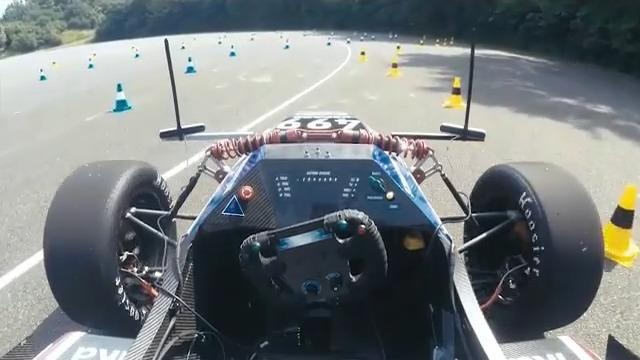blue_cone: (102, 79, 134, 117), (182, 55, 196, 74), (225, 43, 242, 58), (283, 36, 292, 51), (325, 35, 332, 47)
yellow_cone: (597, 179, 640, 270), (445, 71, 467, 114), (387, 54, 404, 80), (354, 46, 368, 64)
